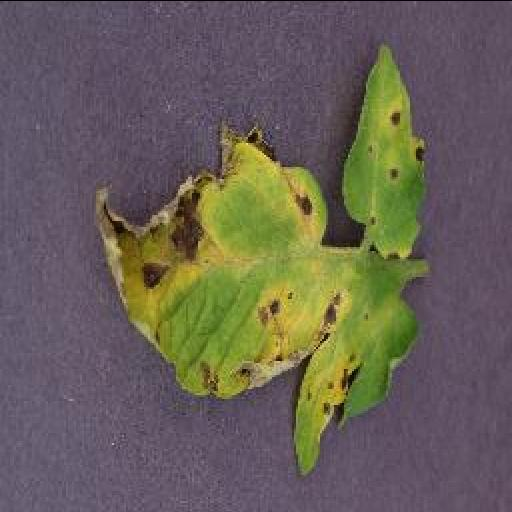disease_tomato: (94, 120, 428, 478), (338, 42, 428, 256)
